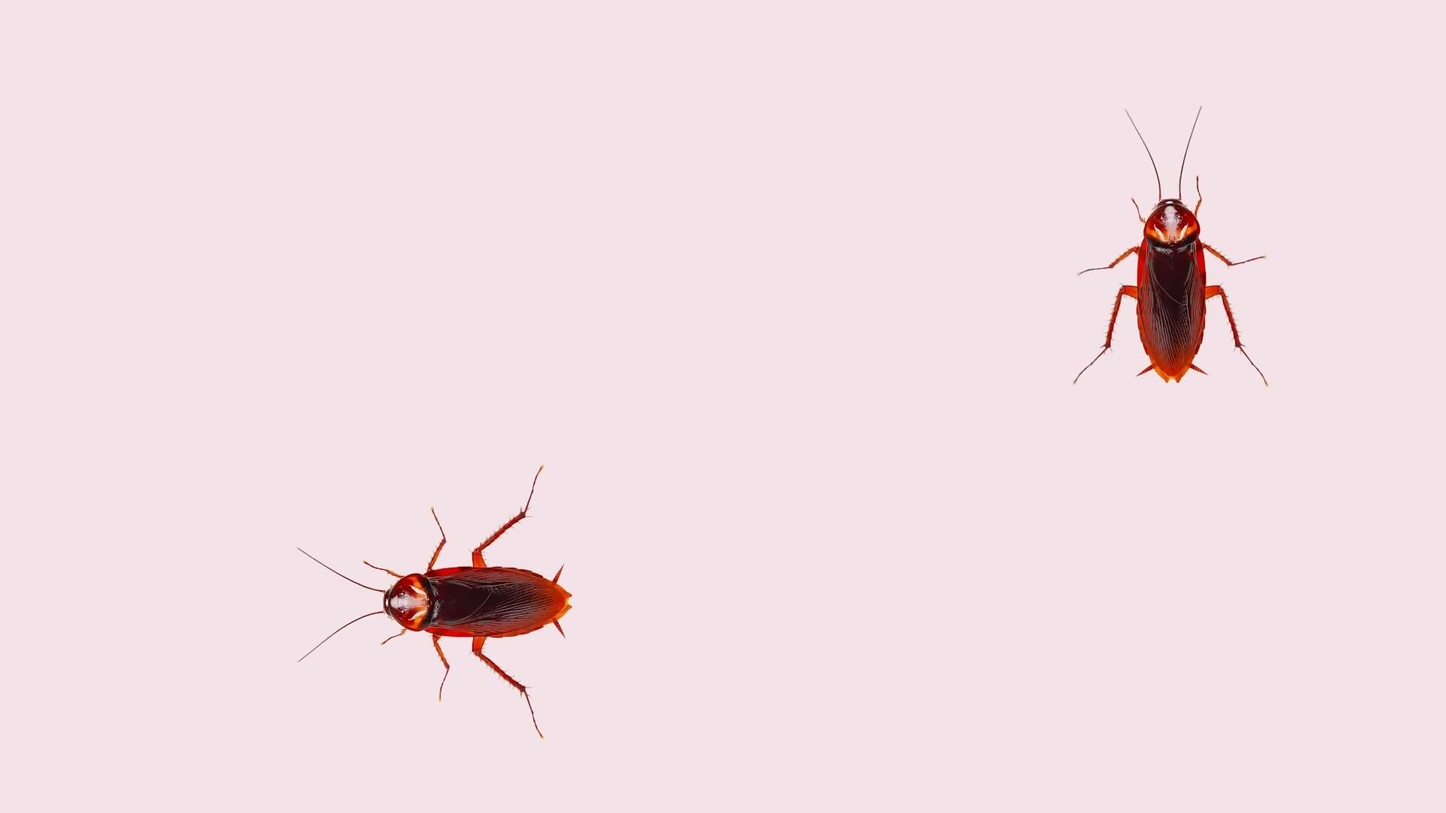cockroach: (278, 462, 577, 746), (1060, 103, 1277, 393)
